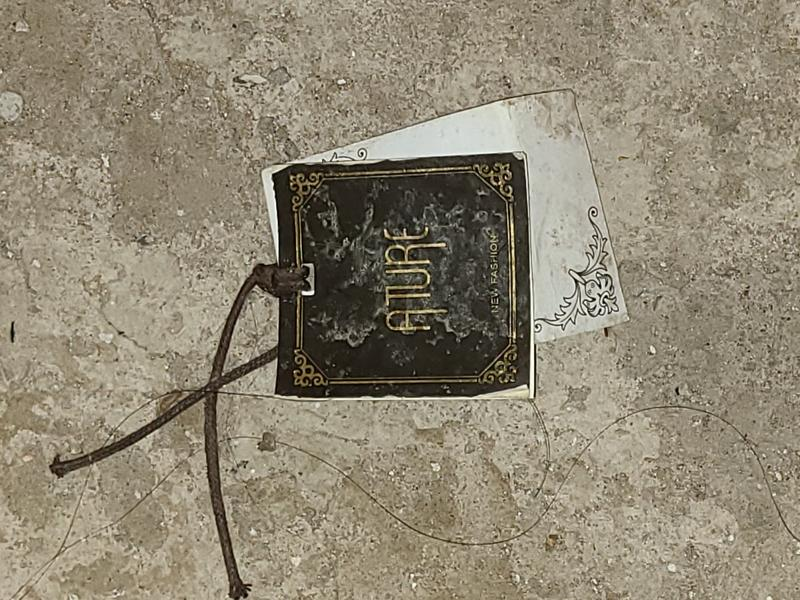papel: (262, 91, 628, 401)
